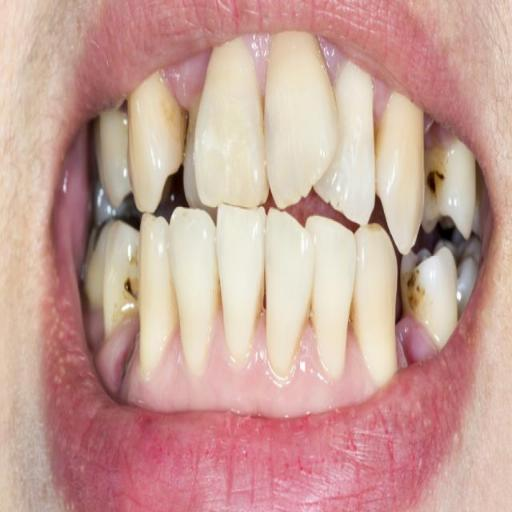spaced: (392, 271, 408, 331)
